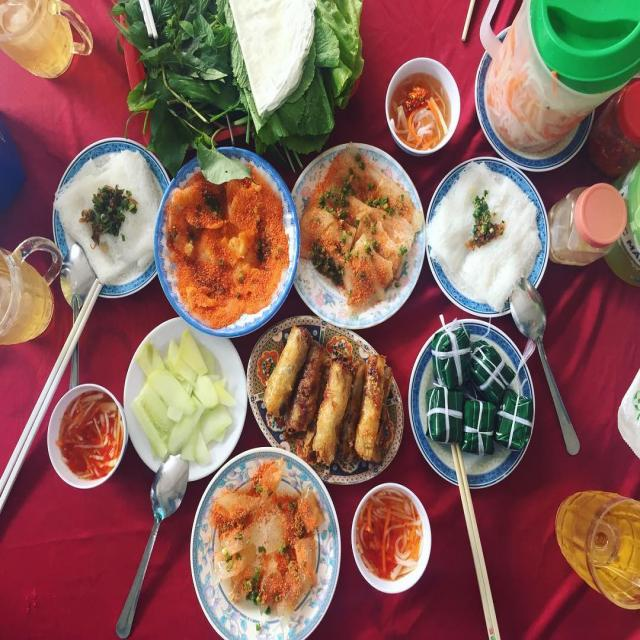banh beo: (162, 172, 290, 318)
banh bot loc: (209, 477, 318, 616)
banh hoi: (427, 171, 540, 306), (64, 156, 159, 280)
banh nam: (297, 161, 414, 304)
bia: (556, 480, 640, 612), (0, 0, 88, 86), (0, 241, 50, 341)
cha ram: (276, 320, 388, 464)
mam ngot: (479, 5, 615, 148), (355, 488, 429, 592), (47, 395, 124, 480), (384, 60, 458, 147)
nem chua: (409, 325, 530, 480)
xoai: (130, 337, 236, 466)
